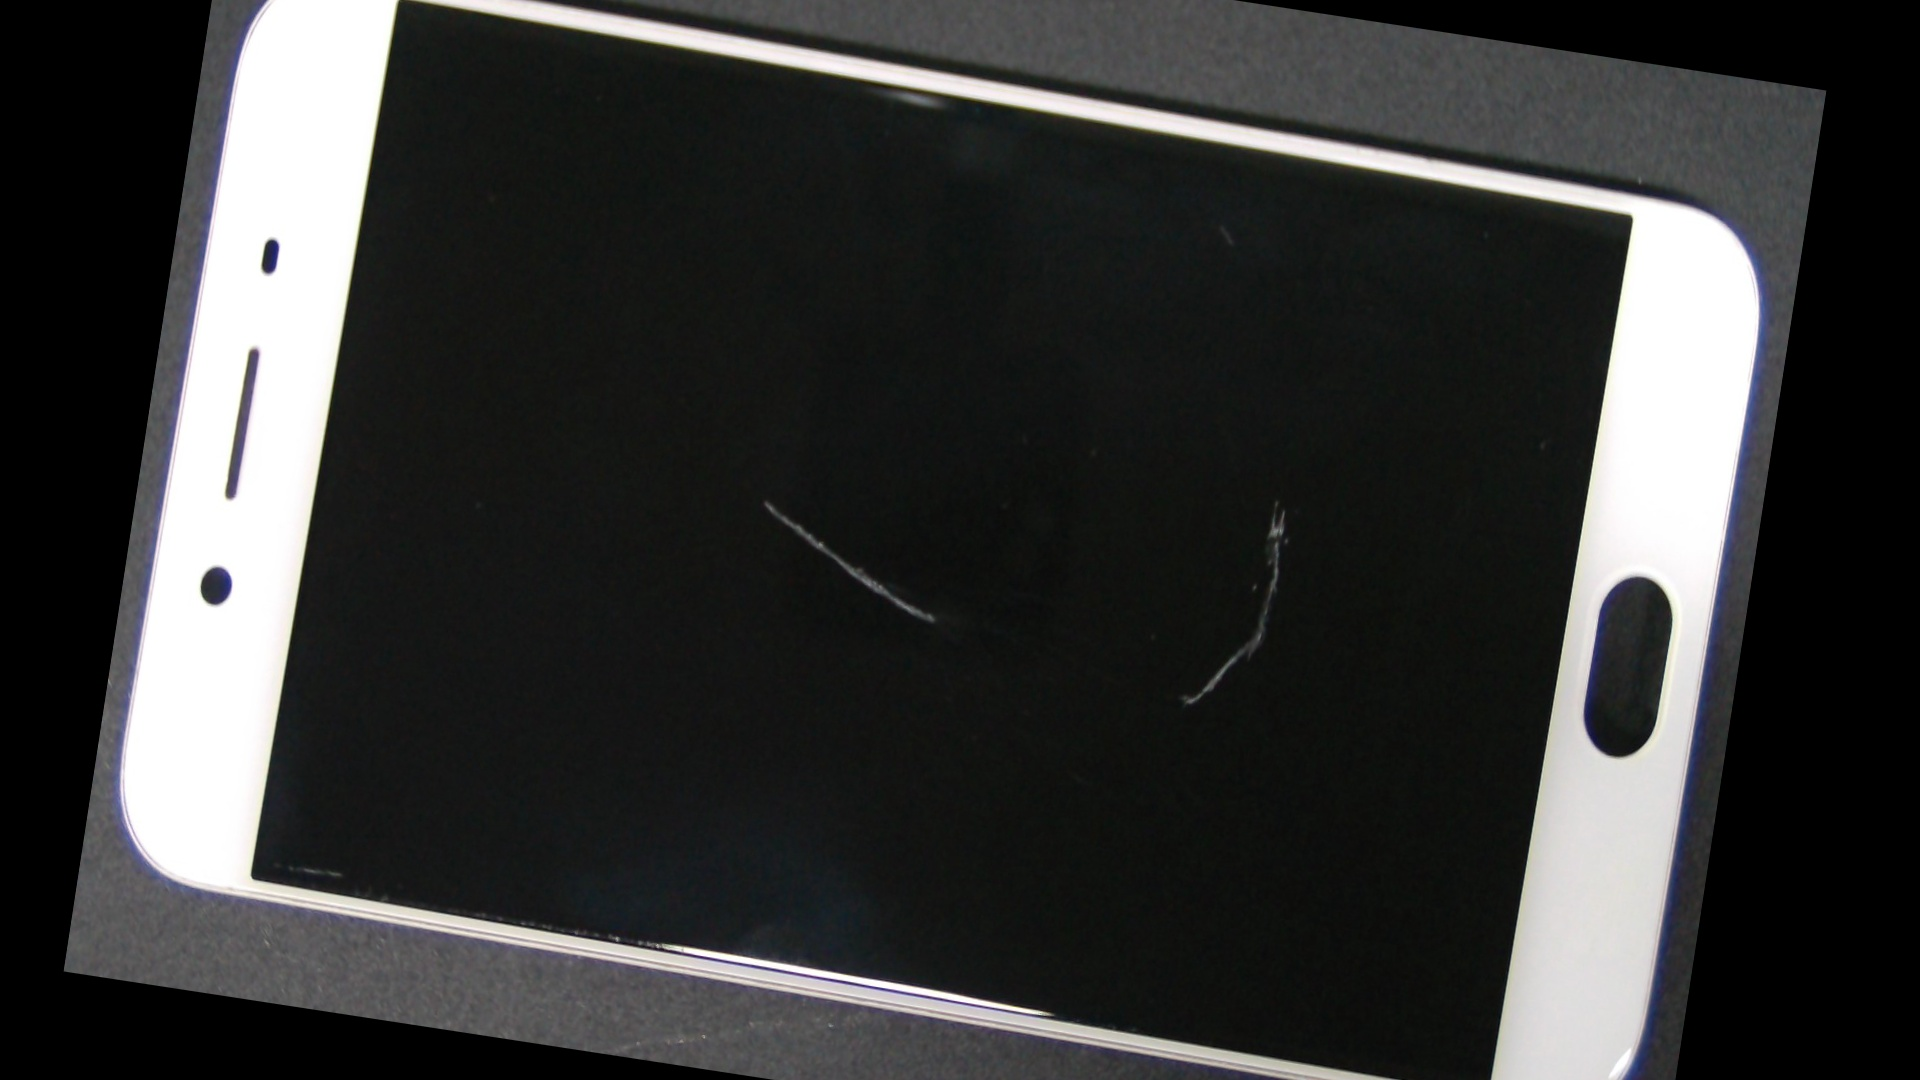oil: (682, 171, 1789, 816), (415, 173, 1116, 827)
